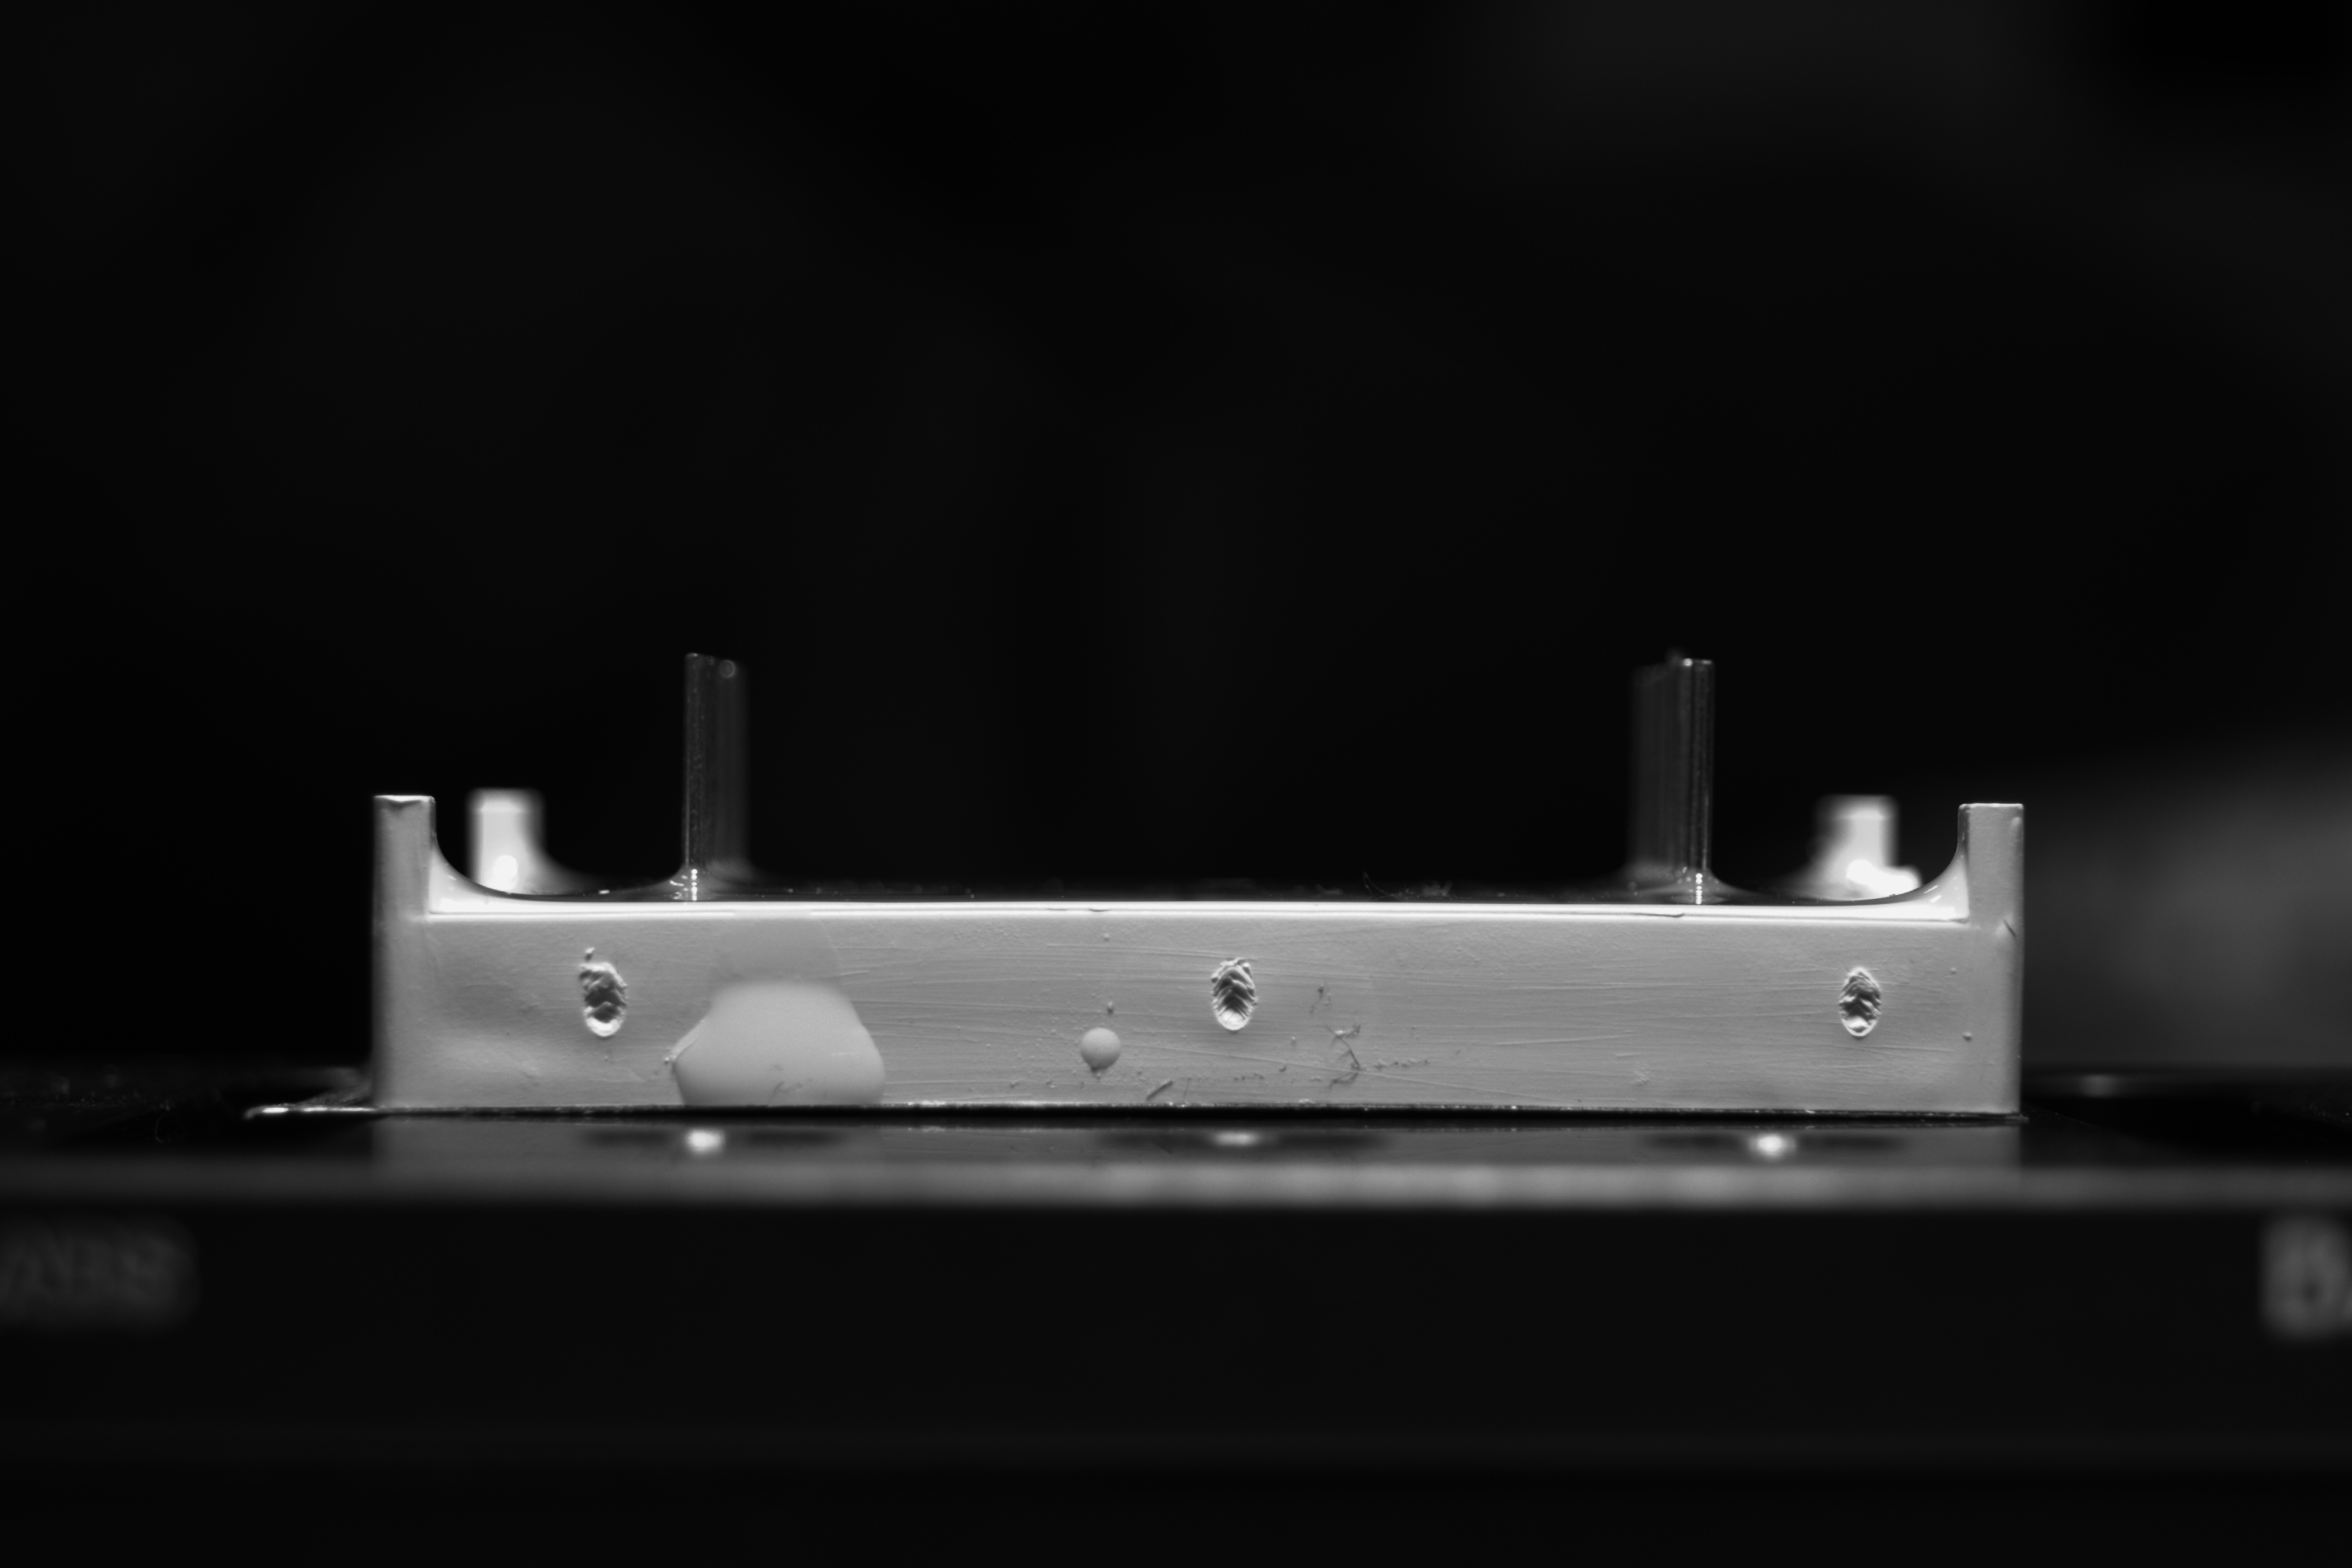glue: (672, 919, 885, 1106), (1080, 1027, 1120, 1069), (584, 947, 595, 959), (1962, 1031, 1972, 1041), (1108, 1001, 1115, 1011), (1102, 933, 1109, 941), (1949, 968, 1956, 973)
injection_hole: (576, 959, 635, 1041), (1211, 954, 1262, 1036), (1837, 964, 1886, 1041)
pin_inclined_side: (1682, 661, 1718, 903)
